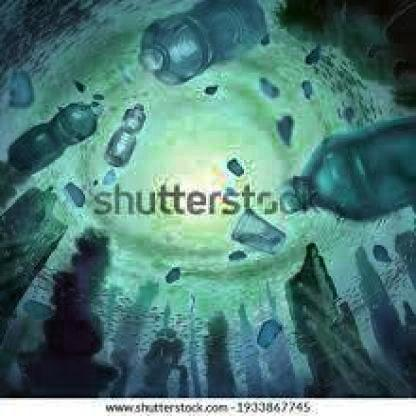pbottle: (283, 109, 416, 216), (138, 2, 272, 84), (5, 98, 107, 169), (102, 102, 151, 174), (226, 209, 292, 256)
